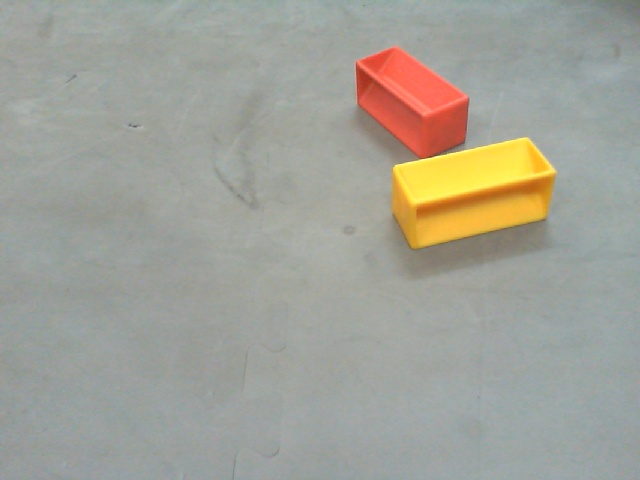RedSample: (354, 45, 470, 159)
YellowSample: (391, 137, 556, 250)
